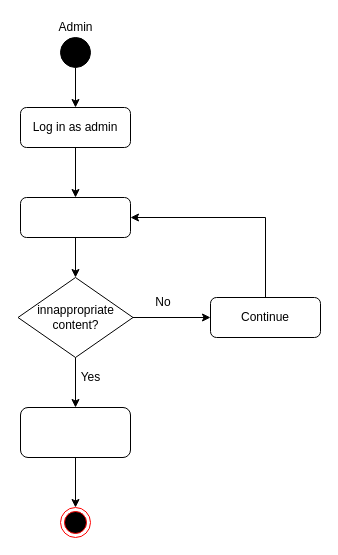
Some shapes in this 338 by 555 pixel diagram are drawn without their labels. Each missing label, with the centre of its shape:
"Delete content" belongs at [75,432].
"View businesses" belongs at [75,217].
